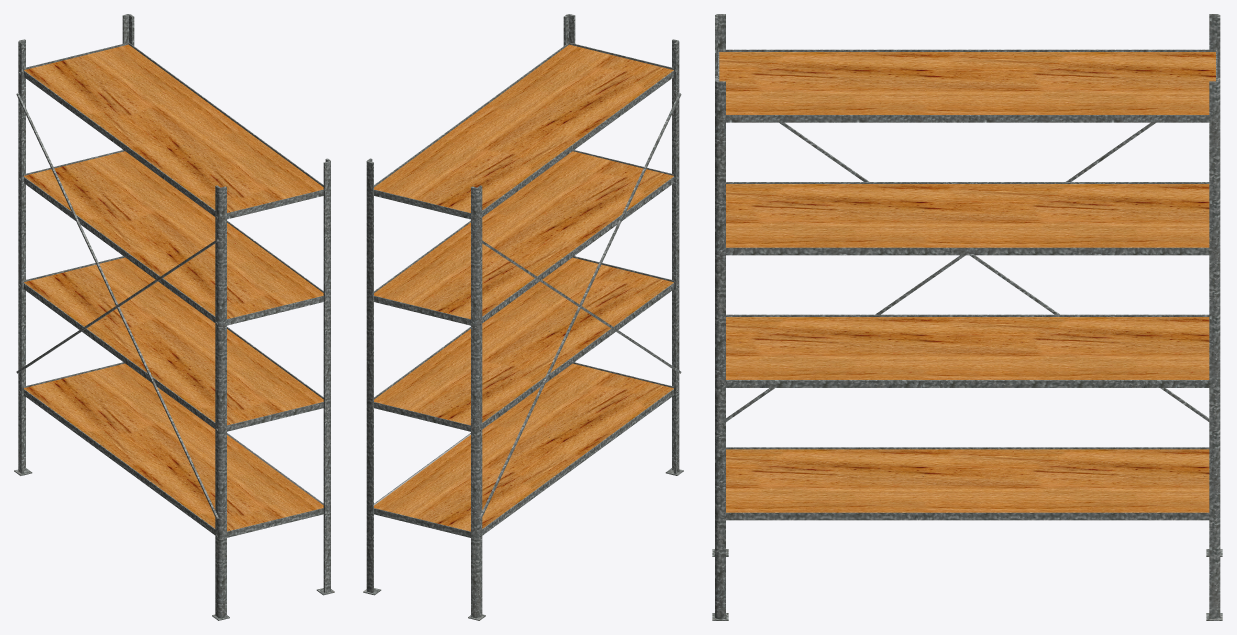
The picture shows the model from 3 angles, left to right: view 1: azimuth 30°, elevation 25°; view 2: azimuth 150°, elevation 25°; view 3: azimuth 270°, elevation 25°; orthographic projection. The views are drawn at different scales.
Visible parts, largest first — view 1: group_0 (×6); view 2: group_0 (×6); view 3: group_0 (×9).
Boxes of the visible parts, <box> form: group_0 (×6): <box>16,14,330,618</box>; group_0 (×6): <box>366,14,681,618</box>; group_0 (×9): <box>715,14,1220,618</box>.
Size of the model in its own units: 25.91 by 78.9 by 91.65.
3 materials, 2 textured.
